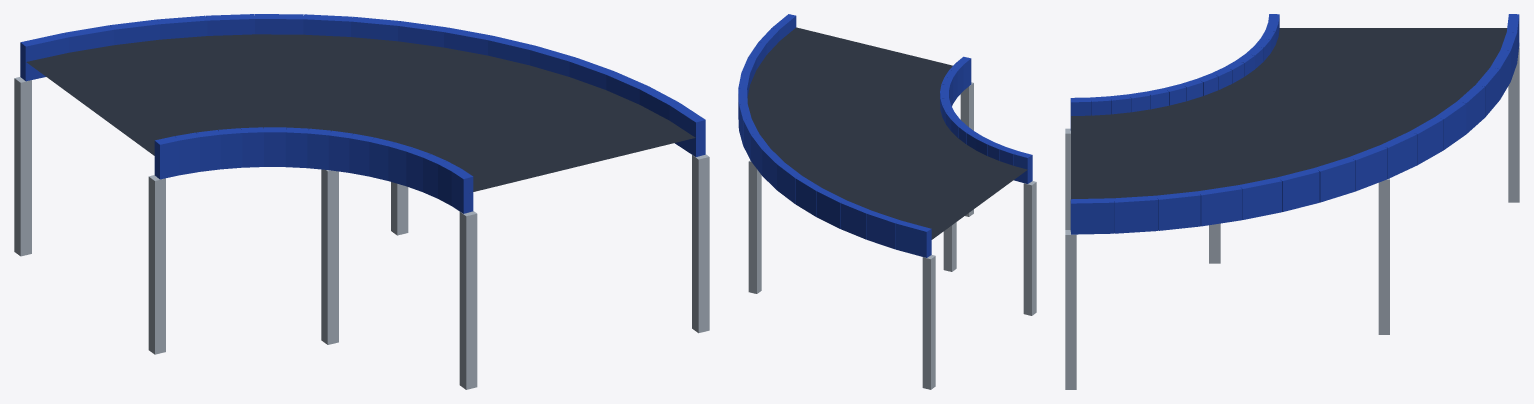
The model's file is SM_MPR_Turn__U74.fbx.
3 views of the same model, side by side, from view 1: azimuth 30°, elevation 25°; view 2: azimuth 150°, elevation 25°; view 3: azimuth 270°, elevation 25° (orthographic). The views are drawn at different scales.
Visible parts, largest first — view 1: SM_MPR_Turn__U74; view 2: SM_MPR_Turn__U74; view 3: SM_MPR_Turn__U74.
Part boxes in pixels (left/top/right/bottom): SM_MPR_Turn__U74: left=14, top=14, right=709, bottom=389; SM_MPR_Turn__U74: left=738, top=14, right=1036, bottom=389; SM_MPR_Turn__U74: left=1065, top=14, right=1519, bottom=389.
Bounding box in the file's own units: 239 × 239 × 108.
